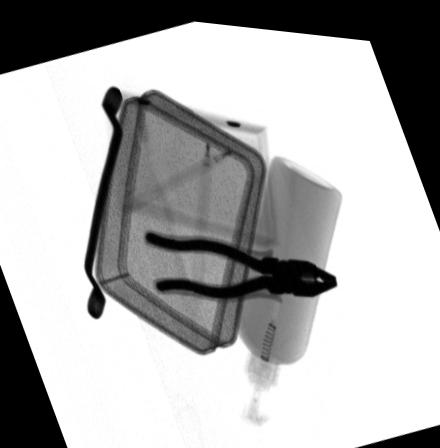Pliers: (142, 222, 338, 299)
Wrench: (81, 80, 124, 315)
